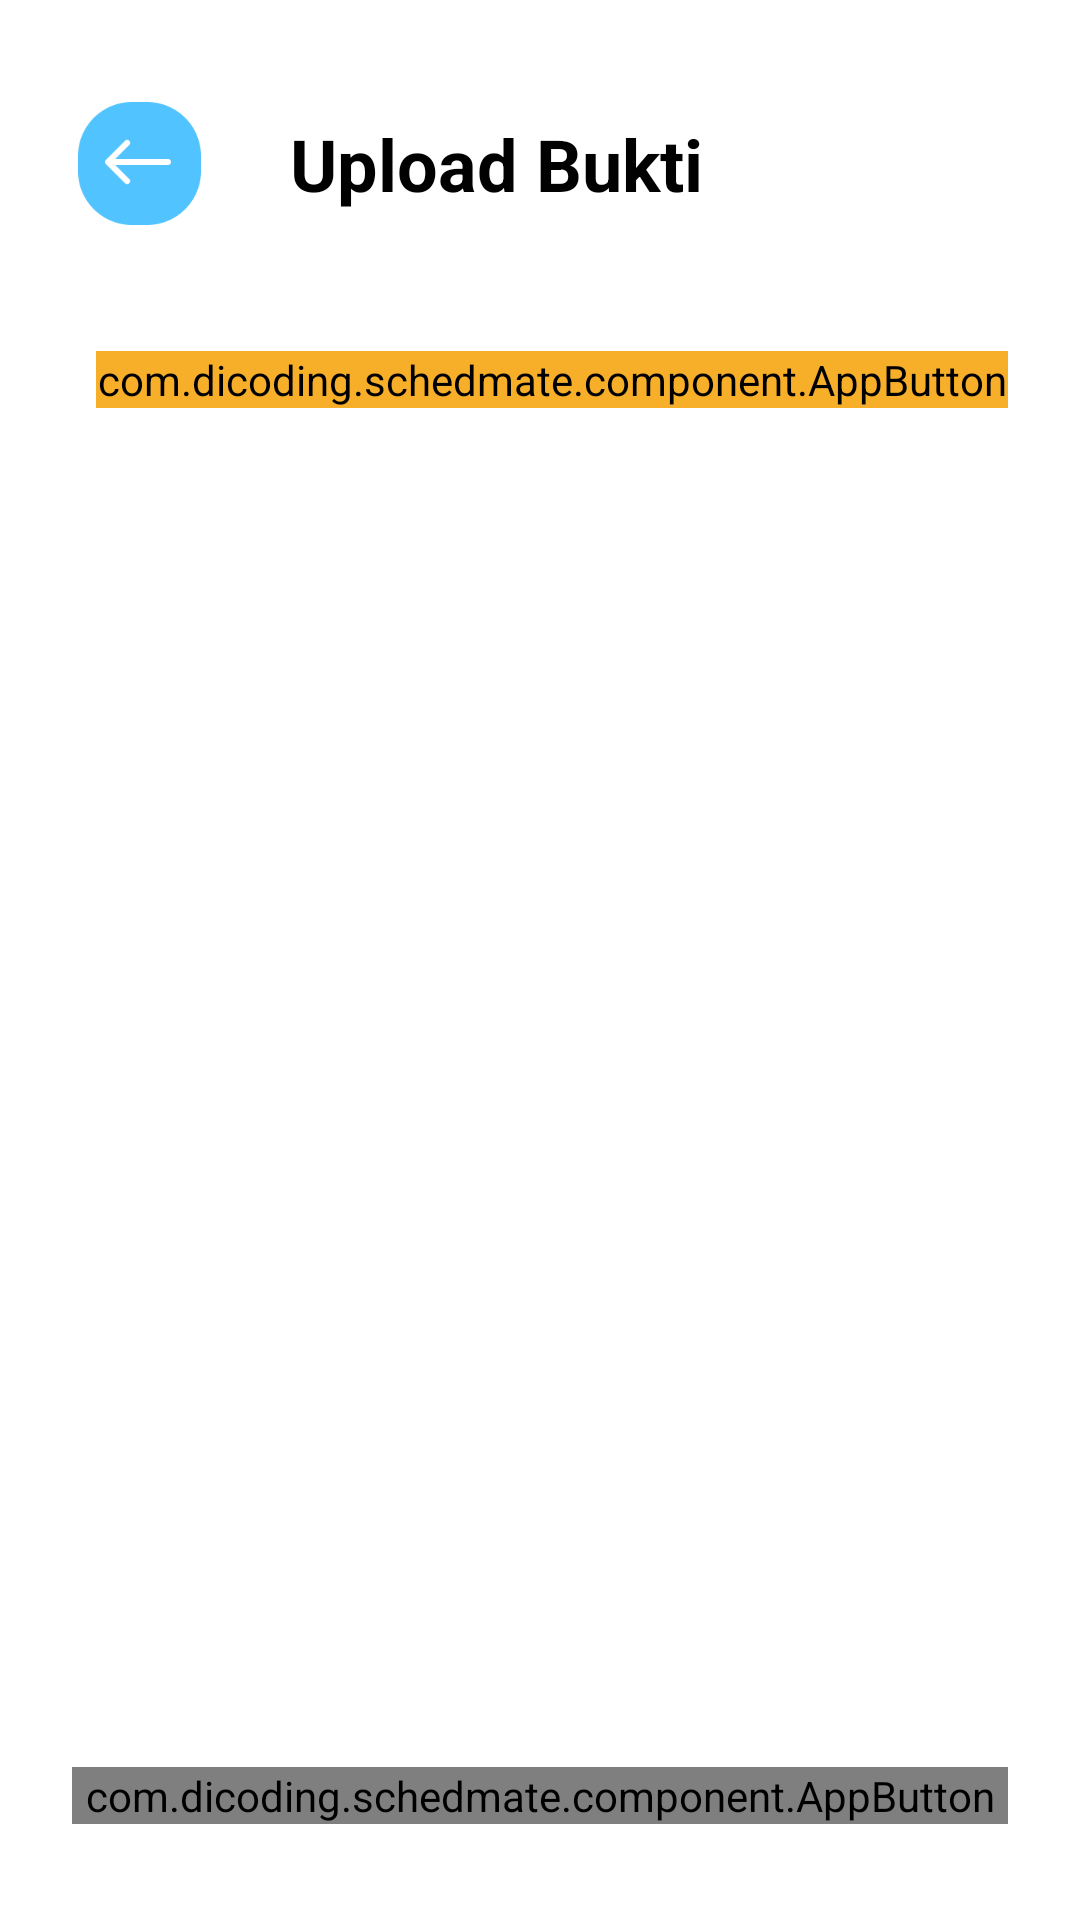

Icon bounding boxes for this 1080*1920 phone screenshot, format (x1, y1, x2, y2):
back: (78, 102, 201, 225)
